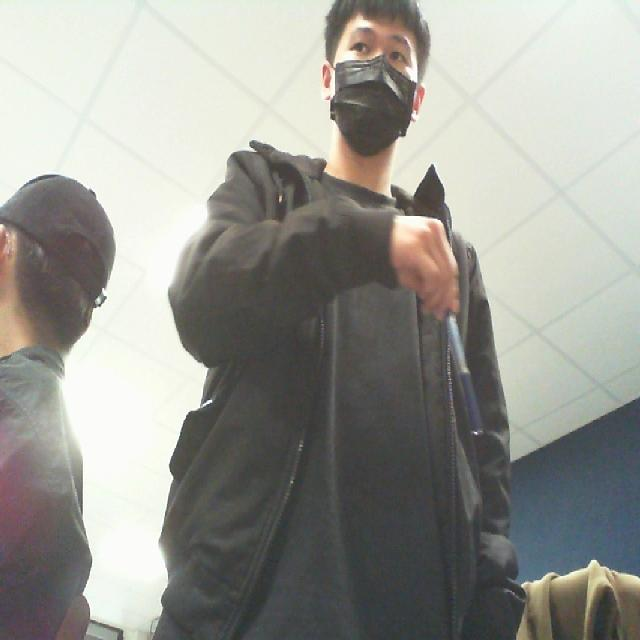Pen: (430, 277, 491, 458)
